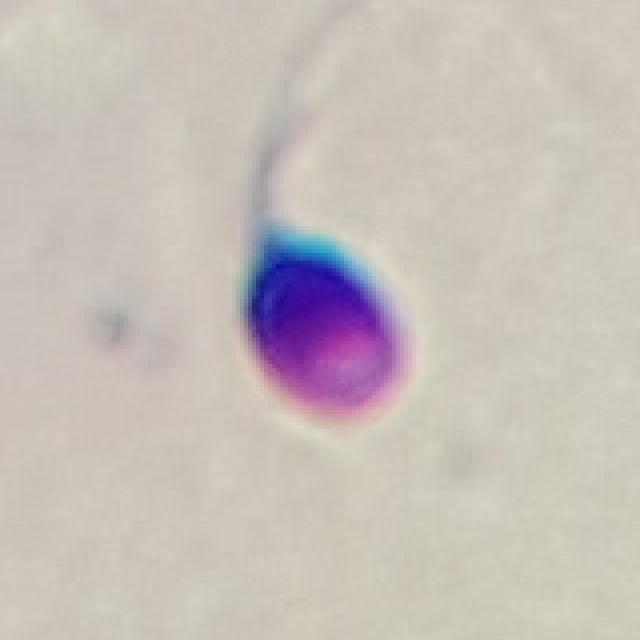normal sperm: (235, 101, 412, 418)
